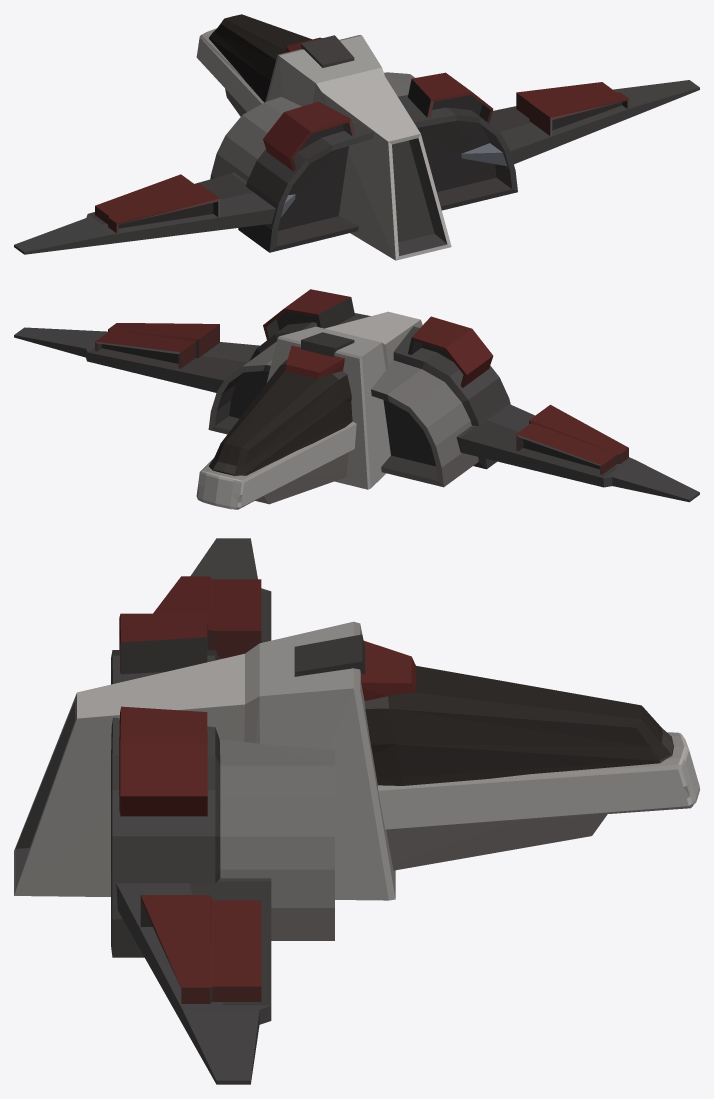
File: bob.glb
3 renders of one model, top to bottom at view 1: azimuth 30°, elevation 25°; view 2: azimuth 150°, elevation 25°; view 3: azimuth 270°, elevation 25°, orthographic. The views are drawn at different scales.
Size of the model in its own units: 5.25 by 1.02 by 2.81.
